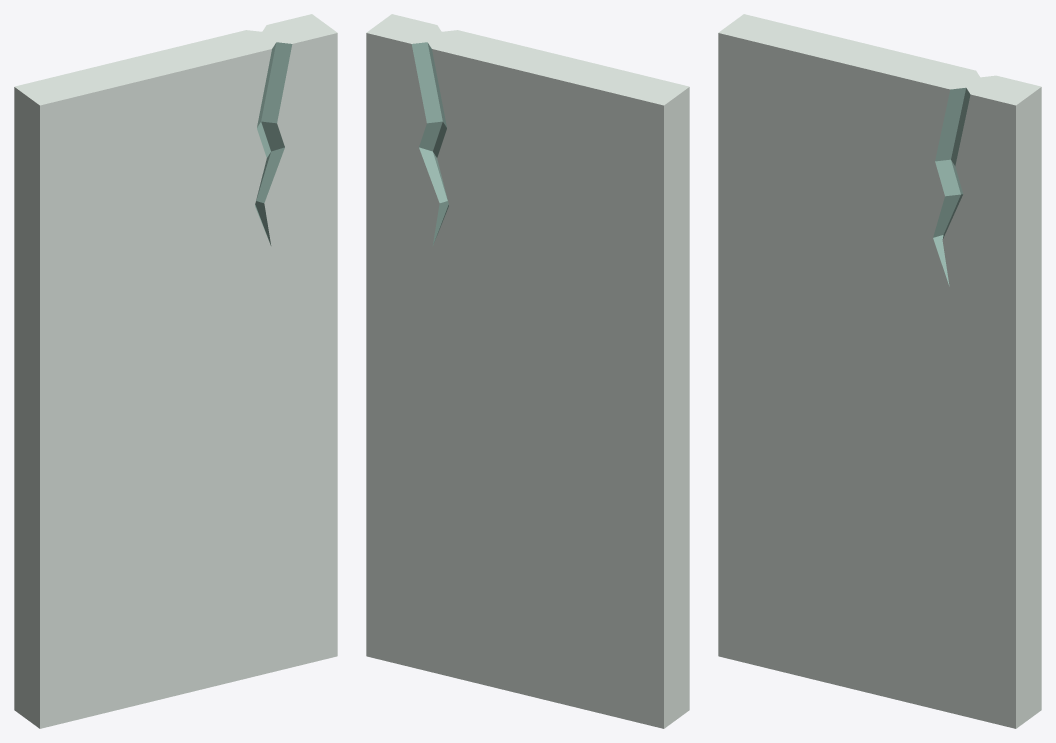
Rendered from CrackedWall.glb.
The picture shows the model from 3 angles, left to right: view 1: azimuth 30°, elevation 25°; view 2: azimuth 150°, elevation 25°; view 3: azimuth 330°, elevation 25°; orthographic projection.
Parts seen in each view (by area): view 1: wall_cracked; view 2: wall_cracked; view 3: wall_cracked.
Boxes of the visible parts, x1,y1,x2,y2 form: wall_cracked: [14, 14, 337, 728]; wall_cracked: [366, 14, 689, 728]; wall_cracked: [718, 14, 1041, 728].
Size of what is drawn, in the model's own units: 2 by 4 by 0.3.
1 material, 1 textured.
